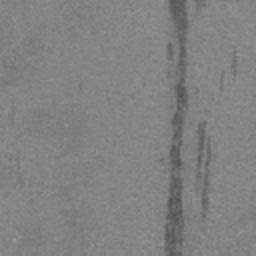Red iron sheet: (164, 0, 188, 256), (196, 120, 211, 214)
